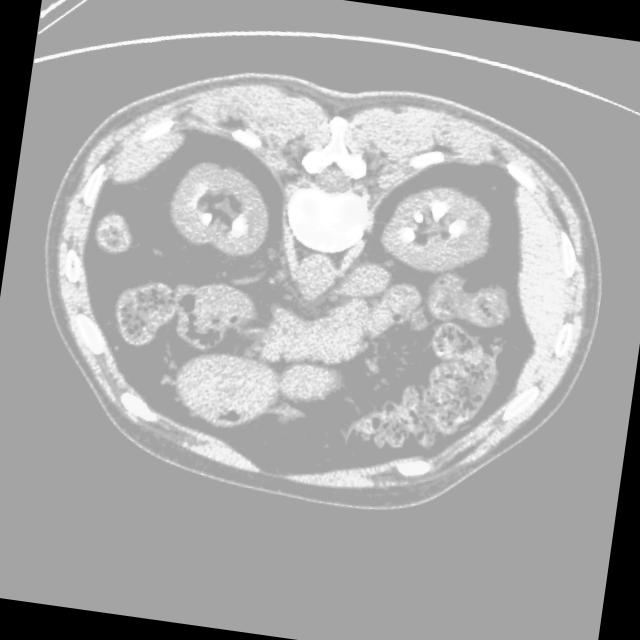STONE: (148, 127, 493, 351)
